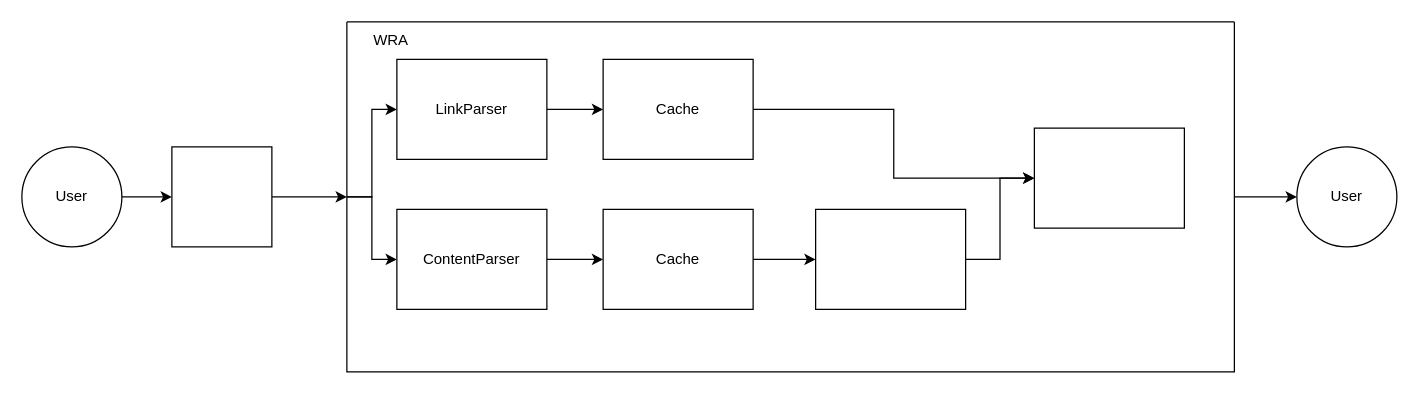
This 1419x394 diagram has some shape labels left out. Here are the shapes that lost their labels. From the top down, the box of each, then its label:
(171, 146, 272, 247): API GATEWAY
(1033, 127, 1184, 228): Response
(814, 208, 966, 309): Analyzer
